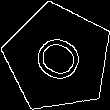O_SE: (25, 27, 90, 89)
